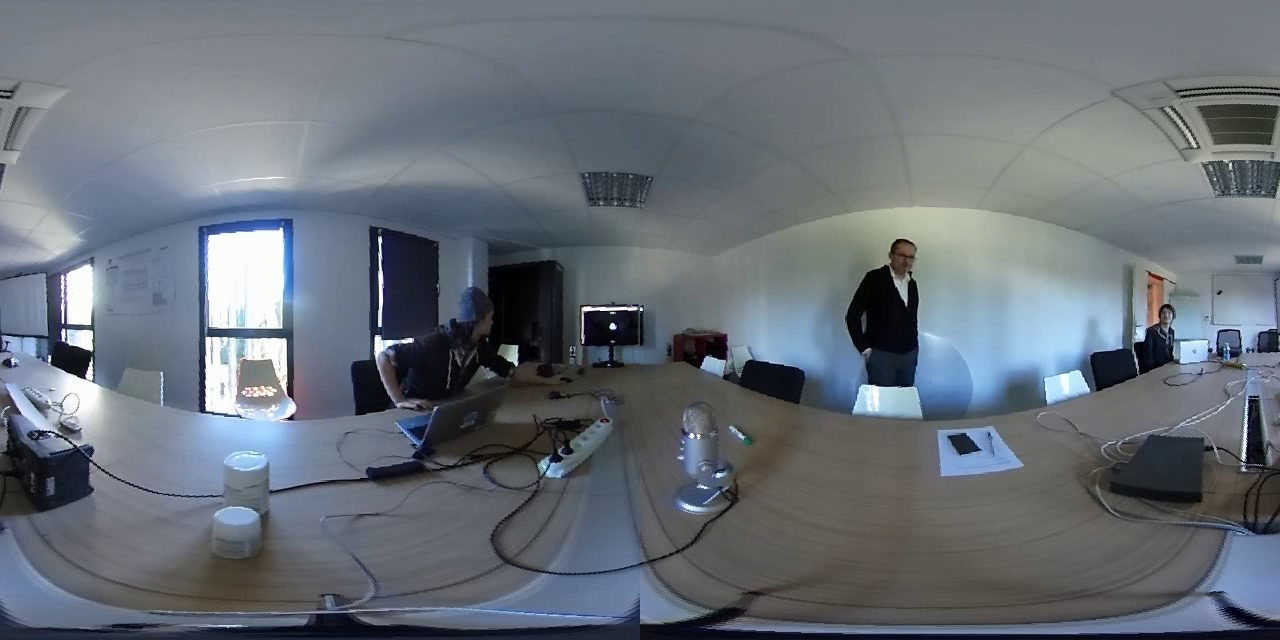person: (844, 229, 943, 389), (379, 280, 519, 380), (1143, 300, 1183, 353)
